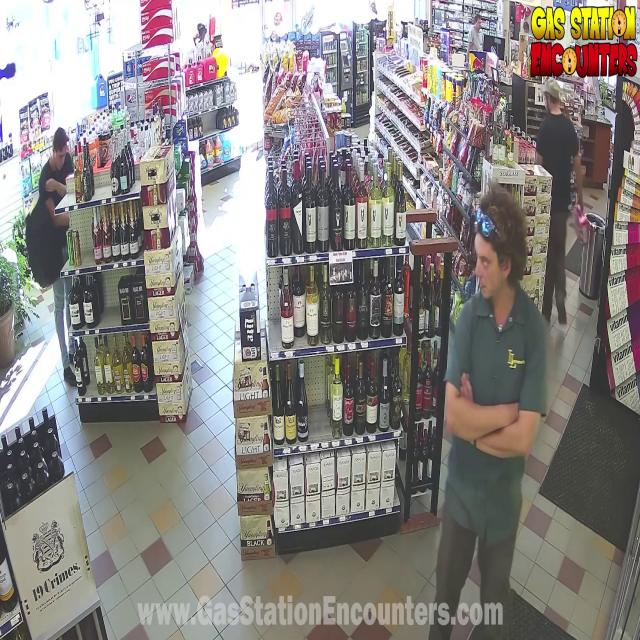Product: (573, 200, 591, 241)
normal: (429, 176, 546, 640), (3, 96, 85, 412)
shoplifting: (536, 69, 600, 390)
